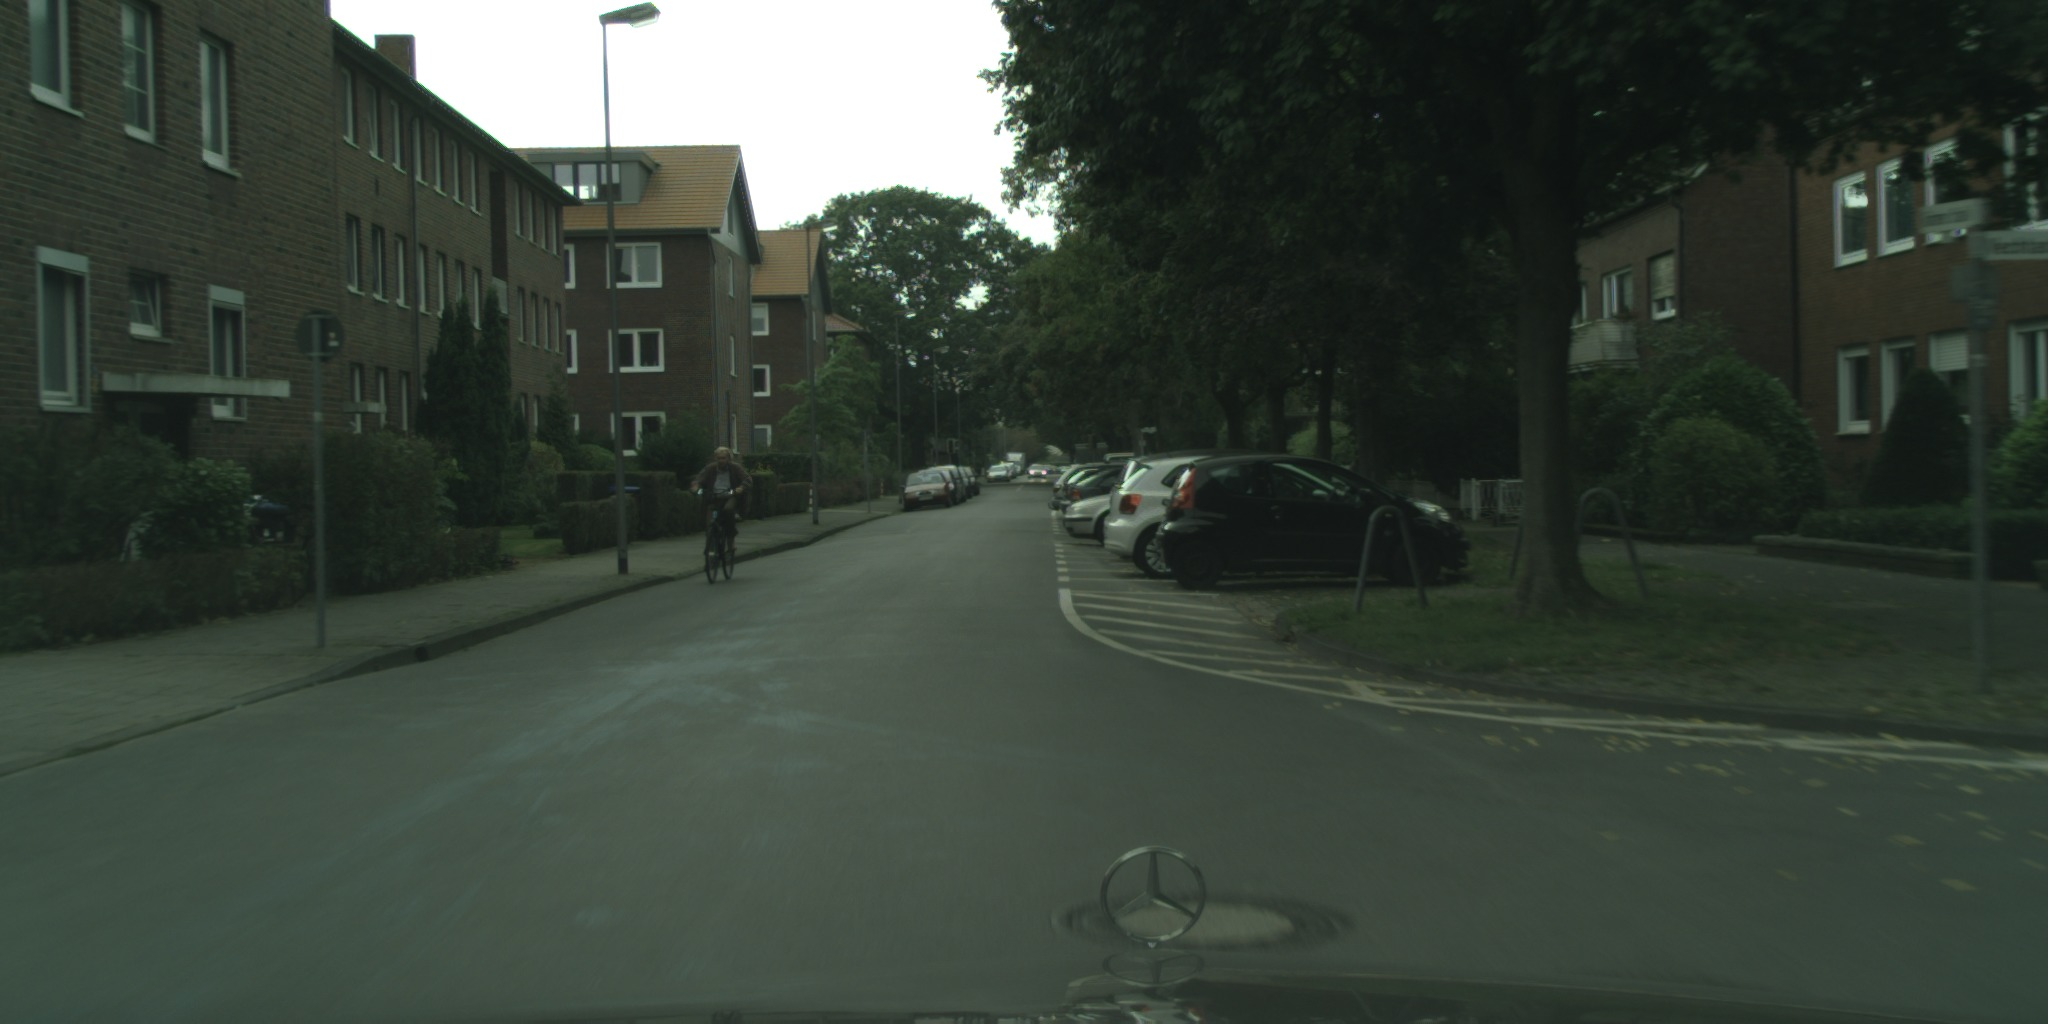bicycle: (702, 491, 735, 584), (254, 499, 289, 545)
car: (1155, 452, 1470, 591), (1103, 454, 1453, 579), (1109, 446, 1288, 562), (1066, 459, 1150, 510), (1046, 463, 1115, 511), (1064, 488, 1119, 547), (1058, 466, 1120, 515), (901, 470, 953, 511), (918, 468, 960, 505), (929, 464, 967, 503), (960, 466, 981, 498), (952, 466, 972, 499), (1101, 452, 1135, 467), (985, 464, 1010, 482), (1028, 464, 1047, 480), (1000, 462, 1018, 478)
rider: (689, 447, 754, 550)
truck: (1005, 451, 1028, 475)
